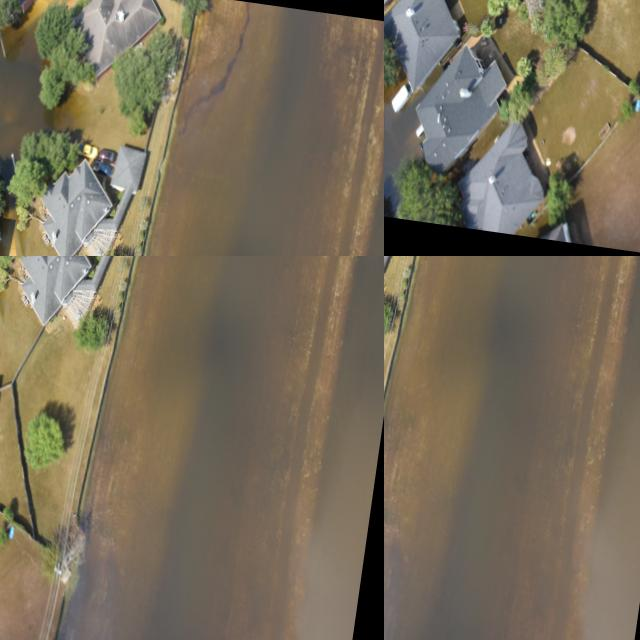fire: (384, 256, 640, 640)
